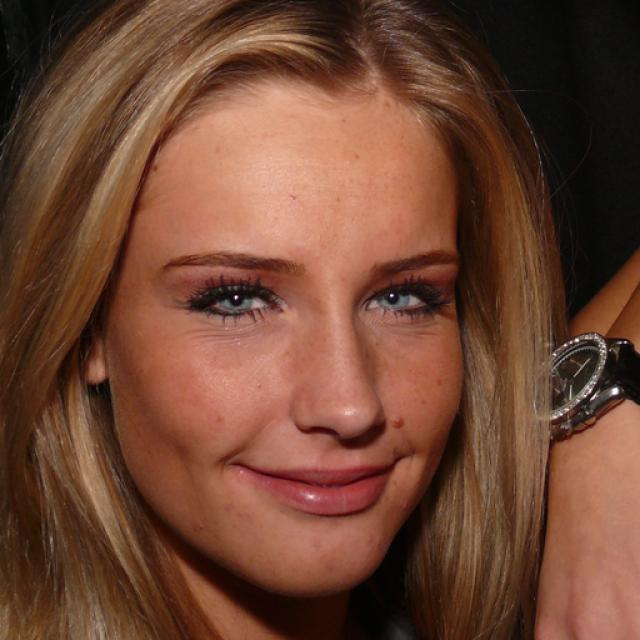Acne: (379, 414, 412, 433)
